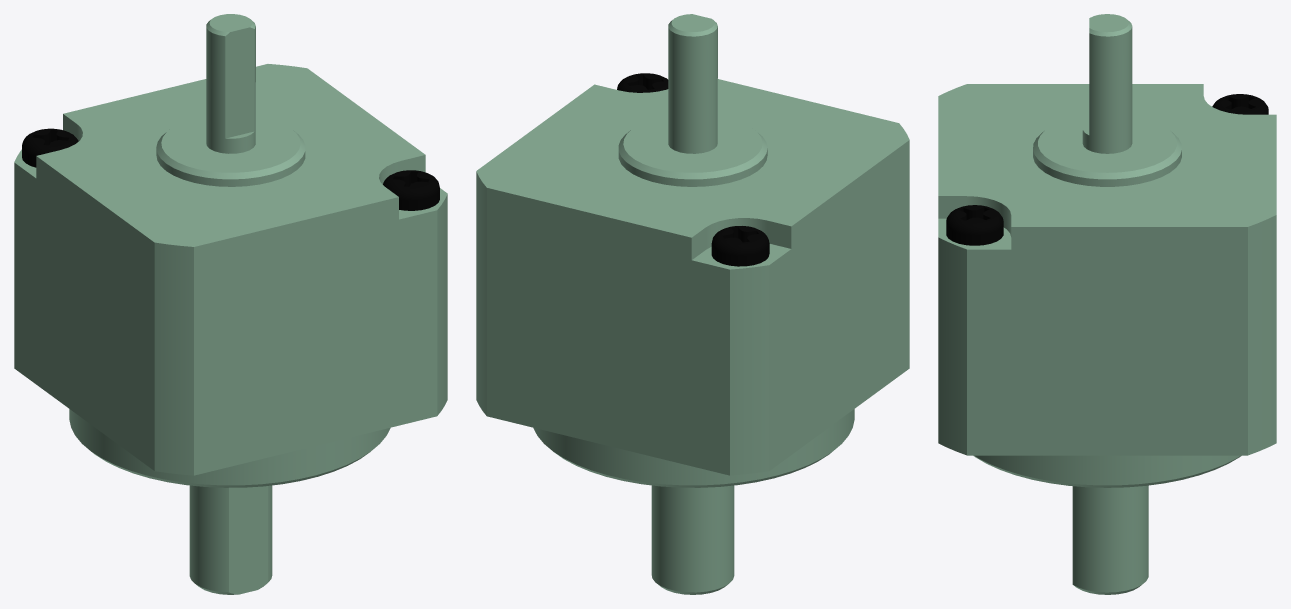
File: Main_CSF-5-30-1U_v2.dae
3 renders of one model, left to right at view 1: azimuth 30°, elevation 25°; view 2: azimuth 150°, elevation 25°; view 3: azimuth 270°, elevation 25°, orthographic.
Visible parts, largest first — view 1: Main_CSF-5-30-1U_v2; view 2: Main_CSF-5-30-1U_v2; view 3: Main_CSF-5-30-1U_v2.
Part boxes in pixels (left/top/right/bottom): Main_CSF-5-30-1U_v2: left=14, top=14, right=447, bottom=594; Main_CSF-5-30-1U_v2: left=476, top=14, right=909, bottom=594; Main_CSF-5-30-1U_v2: left=938, top=14, right=1276, bottom=594.
Size of the model in its own units: 0.0204 by 0.0204 by 0.037.
